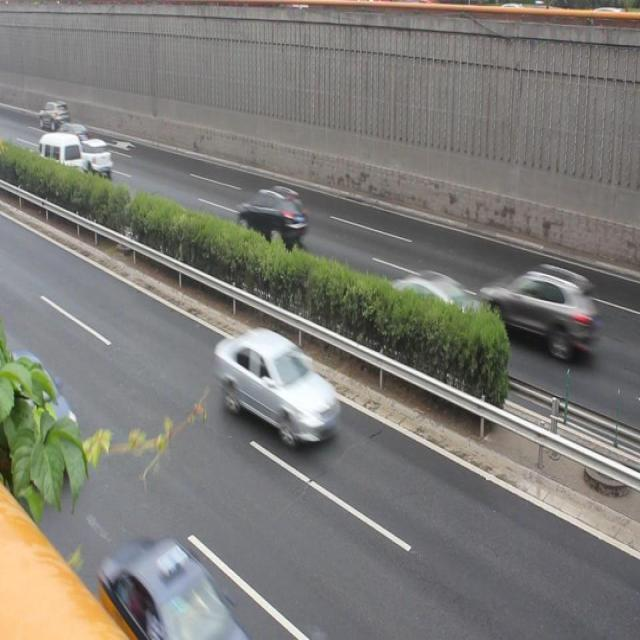car: (216, 324, 347, 448), (102, 540, 250, 640), (481, 255, 592, 353), (1, 348, 85, 464), (385, 263, 488, 347), (235, 180, 312, 244), (80, 130, 115, 180), (59, 116, 89, 152)
truck: (38, 133, 86, 176)
